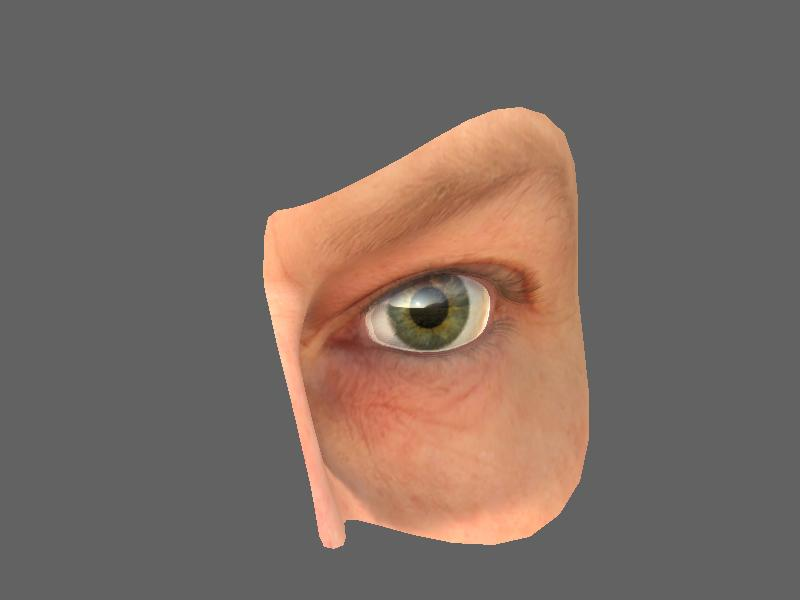iris: (381, 275, 482, 351)
